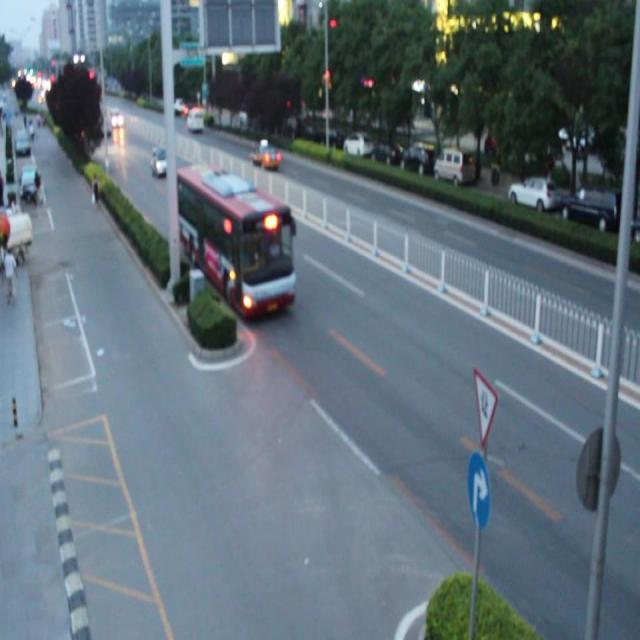car: (248, 141, 279, 171), (151, 146, 170, 178)
van: (176, 158, 294, 316)
